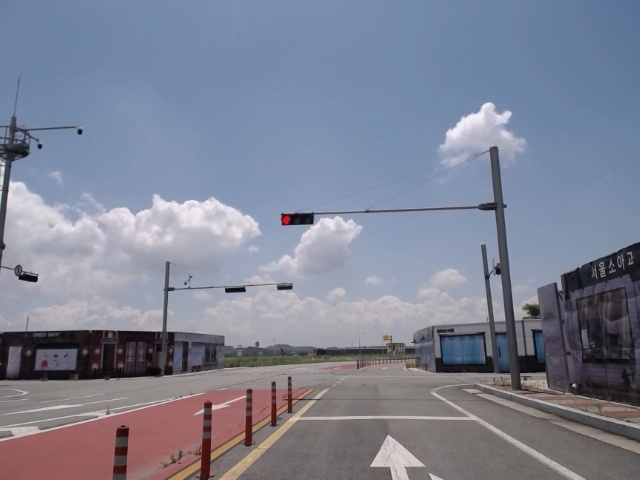red_3: (280, 209, 316, 226)
